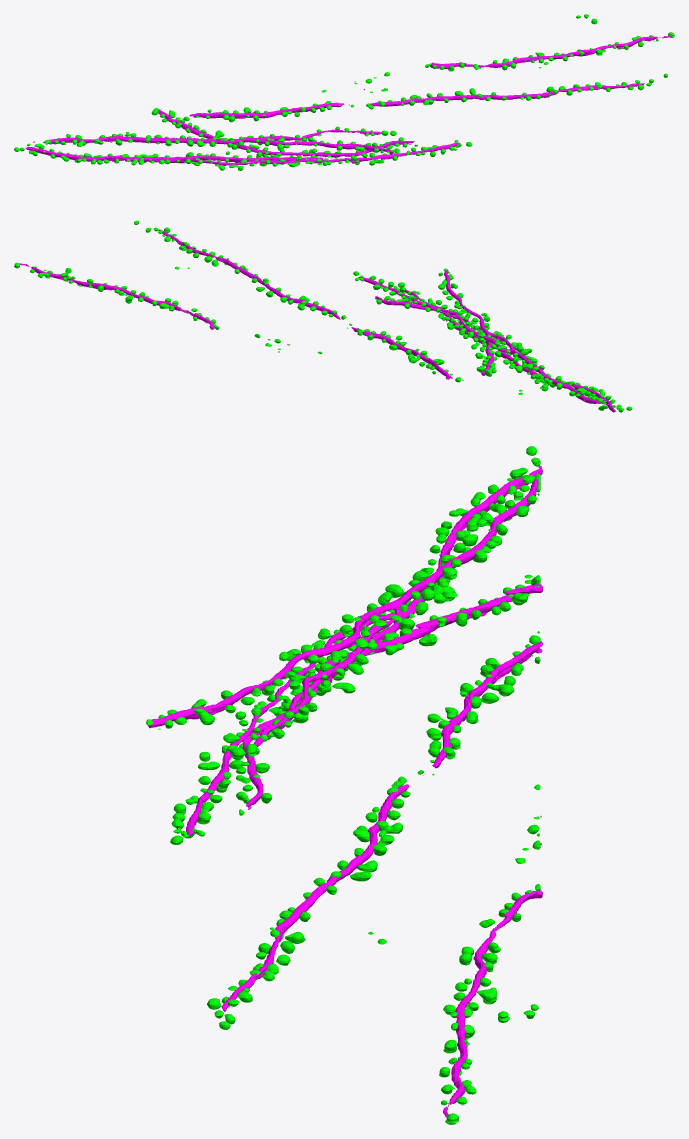
Rendered from ExamenModel.glb.
The picture shows the model from 3 angles, top to bottom: view 1: azimuth 30°, elevation 25°; view 2: azimuth 150°, elevation 25°; view 3: azimuth 270°, elevation 25°; orthographic projection. The views are drawn at different scales.
Parts seen in each view (by area): view 1: dendrites.004, dendrites.013, dendrites.009, dendrites, dendrites.007, dendrites.010; view 2: dendrites.013, dendrites.009, dendrites, dendrites.004, dendrites.010, dendrites.007; view 3: dendrites.013, dendrites.004, dendrites.007, dendrites.009, dendrites, dendrites.010.
Boxes of the visible parts, x1,y1,x2,y2 form: dendrites.004: (25,142,460,165); dendrites.013: (43,129,393,154); dendrites.009: (370,83,644,106); dendrites: (430,36,658,68); dendrites.007: (158,109,414,157); dendrites.010: (189,102,344,118); dendrites.013: (405,270,600,403); dendrites.009: (158,229,340,319); dendrites: (31,266,214,329); dendrites.004: (358,276,616,412); dendrites.010: (351,327,452,379); dendrites.007: (375,296,494,375); dendrites.013: (148,478,538,747); dendrites.004: (186,468,542,835); dendrites.007: (242,584,542,807); dendrites.009: (221,784,409,1011); dendrites: (449,890,542,1104); dendrites.010: (432,641,542,768).
Size of the model in its own units: 1414 by 70.47 by 369.
